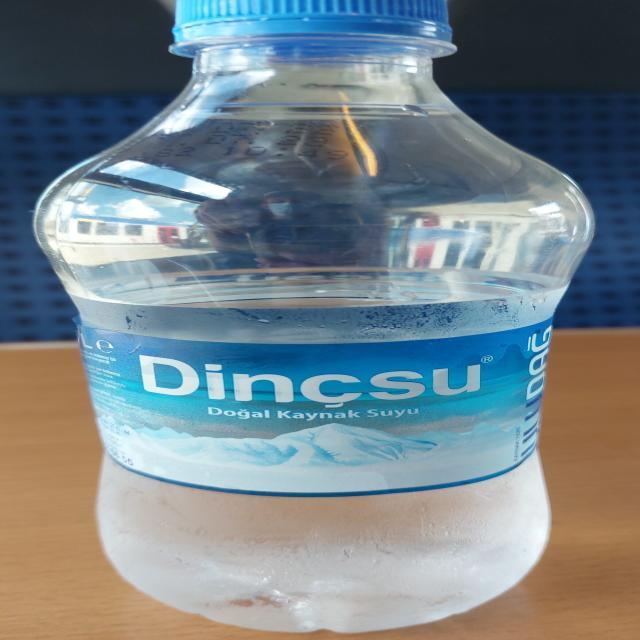plastic: (43, 0, 584, 634)
